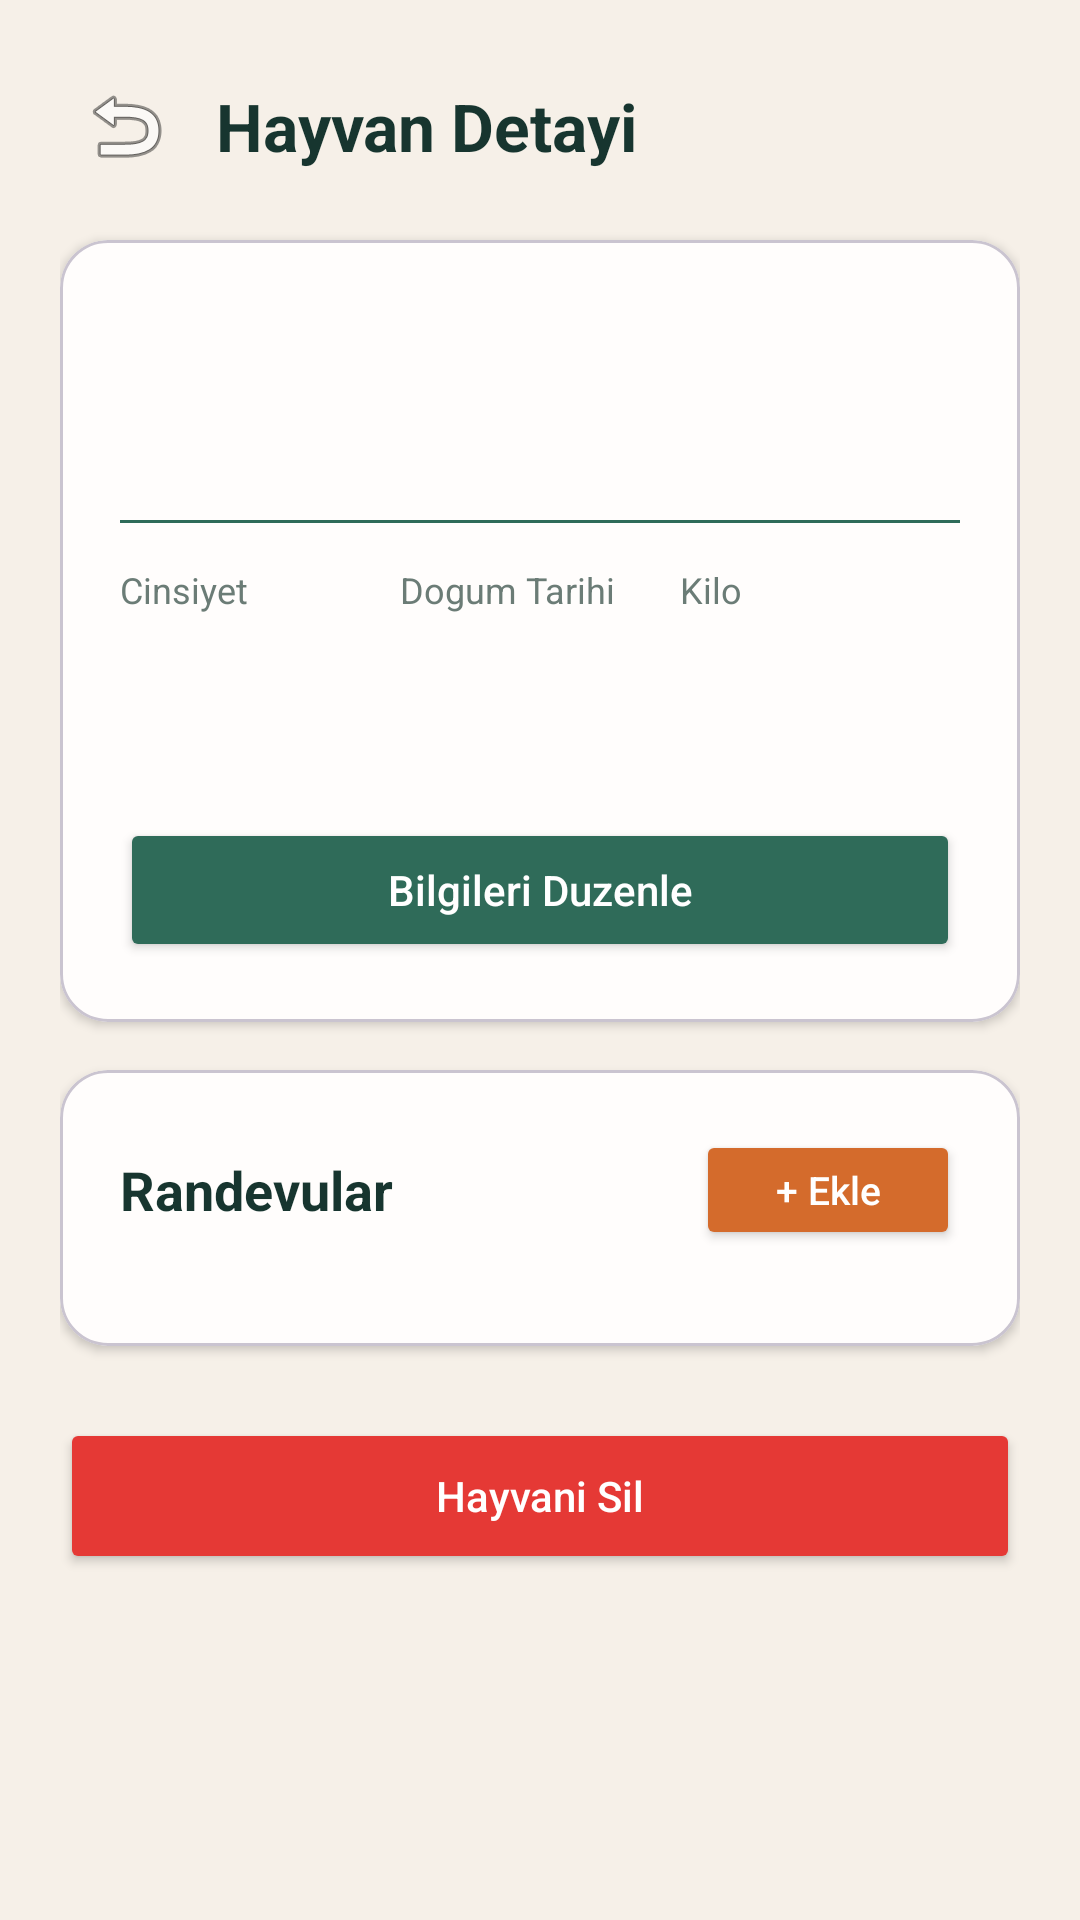

Point at icon controls on the screen. Image size 1080×1920, points as [x,y].
Geri: [127,126]
